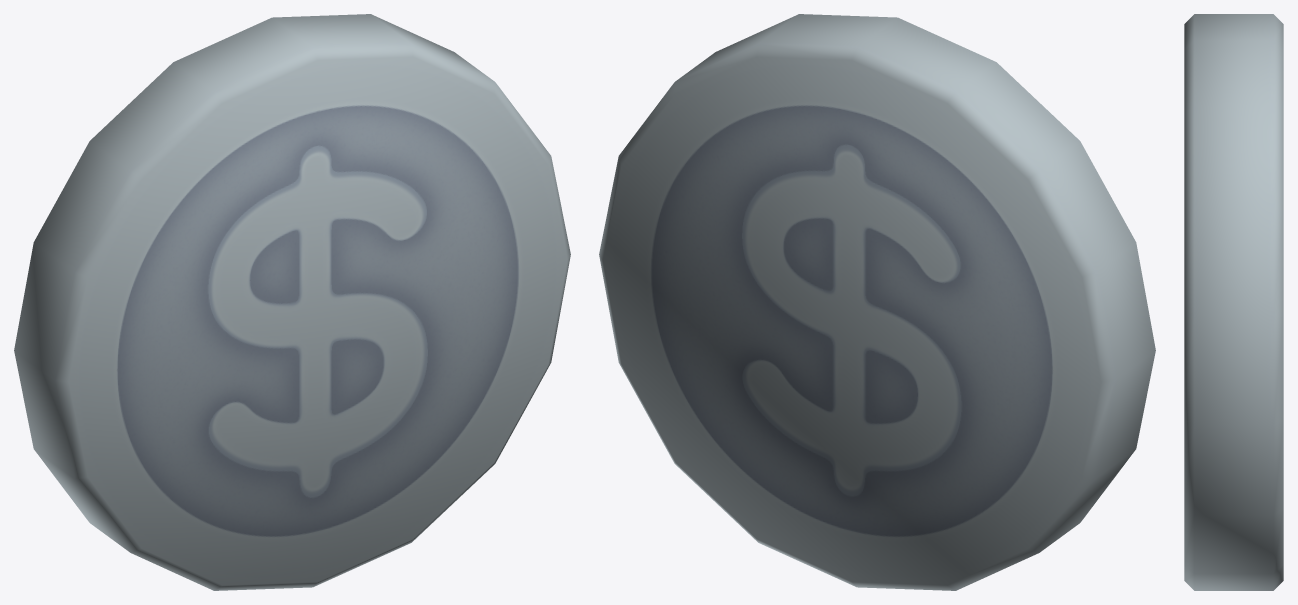
Rendered from Coin_Dollar_Silver.FBX.
The picture shows the model from 3 angles, left to right: view 1: azimuth 30°, elevation 25°; view 2: azimuth 150°, elevation 25°; view 3: azimuth 270°, elevation 25°; orthographic projection. The views are drawn at different scales.
Parts seen in each view (by area): view 1: Coin_Dollar_Silver; view 2: Coin_Dollar_Silver; view 3: Coin_Dollar_Silver.
Part boxes in pixels (x1=…): Coin_Dollar_Silver: x1=14, y1=14, x2=570, y2=590; Coin_Dollar_Silver: x1=599, y1=14, x2=1155, y2=590; Coin_Dollar_Silver: x1=1184, y1=14, x2=1283, y2=590.
Size of the model in its own units: 70 by 70 by 12.
1 material, 1 textured.
